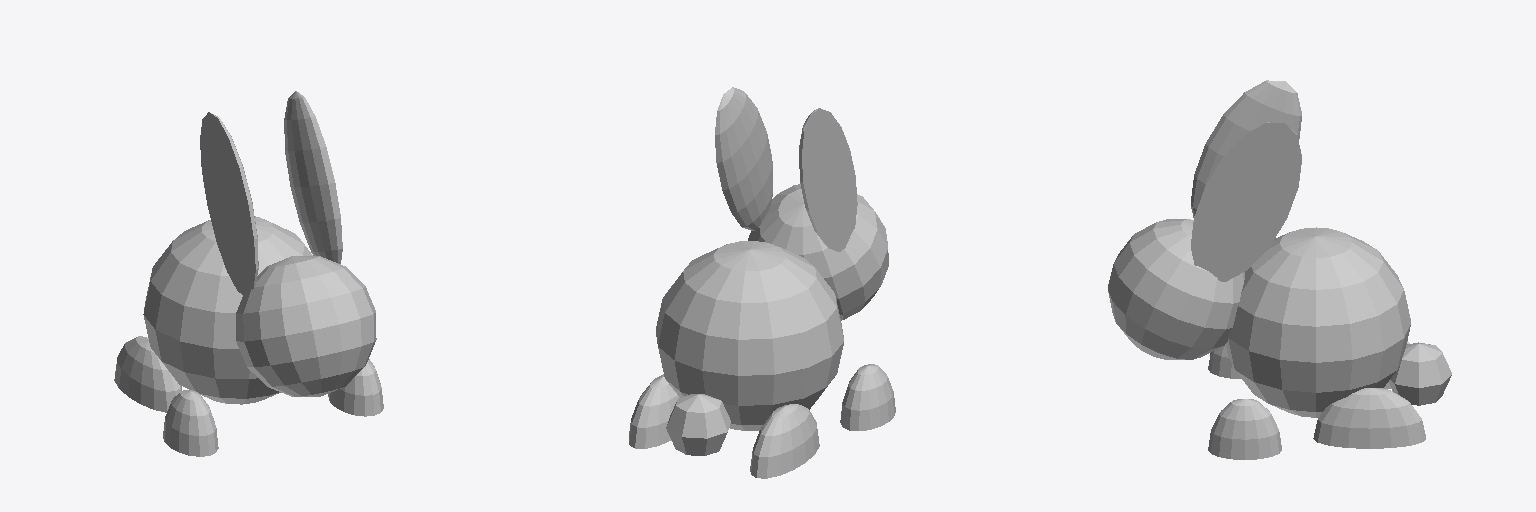
File: rabbit-dig2.obj
3 renders of one model, left to right at view 1: azimuth 30°, elevation 25°; view 2: azimuth 150°, elevation 25°; view 3: azimuth 270°, elevation 25°, orthographic.
Parts seen in each view (by area): view 1: sphere1, sphere2, sphere4_cut11, sphere4, sphere6_copy8, sphere6_copy11, sphere6_copy10; view 2: sphere2, sphere1, sphere4_cut11, sphere4, sphere6_copy8, sphere3, sphere6_copy11, sphere6_cut7; view 3: sphere2, sphere1, sphere4, sphere6_cut7, sphere4_cut11, sphere6_copy10, sphere3, sphere6_copy11.
Part boxes in pixels (bbox=[...]): sphere1: bbox=[236, 256, 376, 396]; sphere2: bbox=[143, 216, 312, 404]; sphere4_cut11: bbox=[200, 112, 258, 295]; sphere4: bbox=[284, 91, 342, 263]; sphere6_copy8: bbox=[114, 336, 181, 412]; sphere6_copy11: bbox=[163, 390, 218, 456]; sphere6_copy10: bbox=[328, 359, 383, 416]; sphere2: bbox=[656, 241, 843, 430]; sphere1: bbox=[748, 184, 888, 320]; sphere4_cut11: bbox=[799, 108, 857, 251]; sphere4: bbox=[715, 87, 772, 230]; sphere6_copy8: bbox=[750, 404, 819, 478]; sphere3: bbox=[666, 394, 730, 455]; sphere6_copy11: bbox=[840, 364, 895, 430]; sphere6_cut7: bbox=[629, 374, 679, 448]; sphere2: bbox=[1226, 227, 1410, 417]; sphere1: bbox=[1108, 219, 1244, 359]; sphere4: bbox=[1191, 122, 1301, 281]; sphere6_cut7: bbox=[1313, 388, 1425, 448]; sphere4_cut11: bbox=[1191, 80, 1301, 217]; sphere6_copy10: bbox=[1208, 399, 1281, 459]; sphere3: bbox=[1389, 342, 1451, 405]; sphere6_copy11: bbox=[1208, 344, 1240, 378].
Bounding box in the file's own units: 2.51 × 3.56 × 3.62.